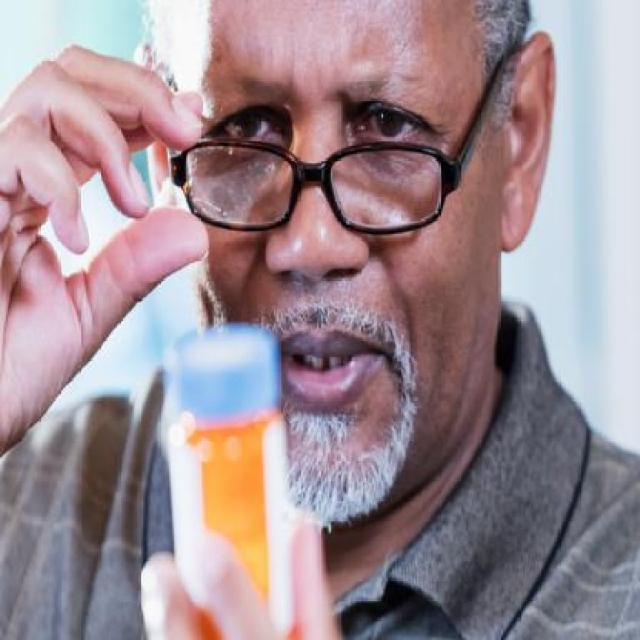glasses: (164, 123, 466, 242)
